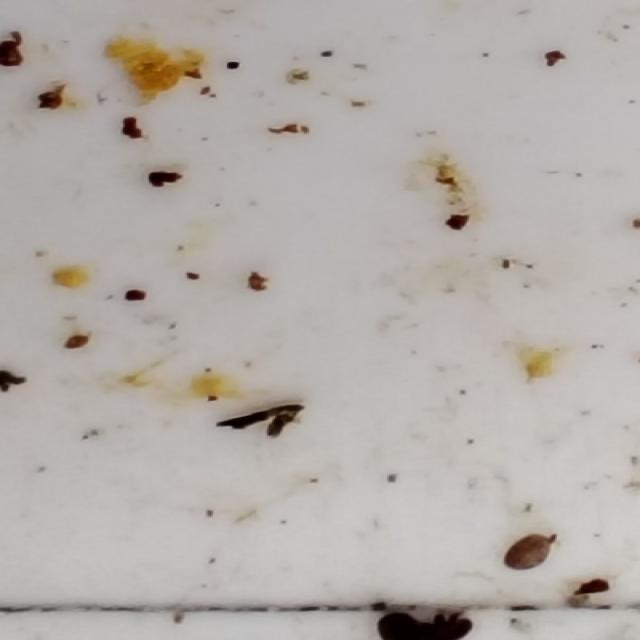varroa: (376, 609, 474, 640)
